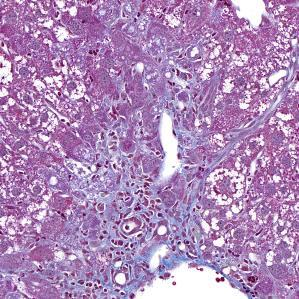fibrosis: (66, 175, 204, 267)
